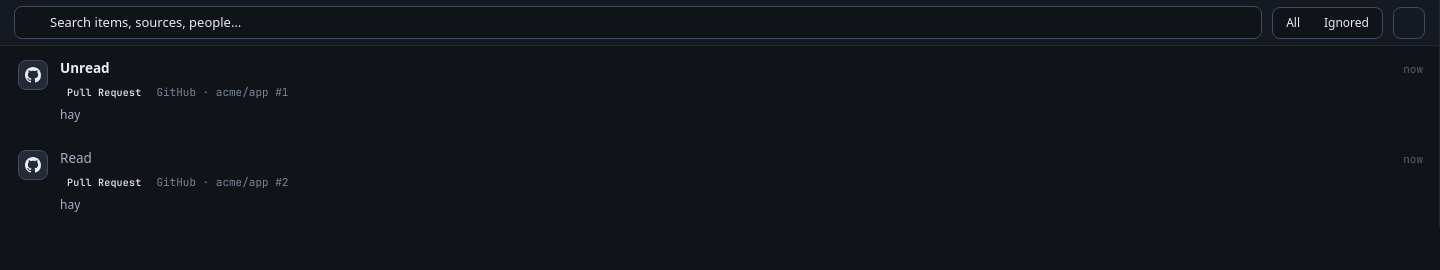
FeedList › omits mark all as read in trash, which carries no unread semantics
The width and height of the screenshot is (1440, 270).
Click the button with test id "view-menu-toggle".
click(1409, 22)  # box x1=1393 y1=6 x2=1425 y2=38
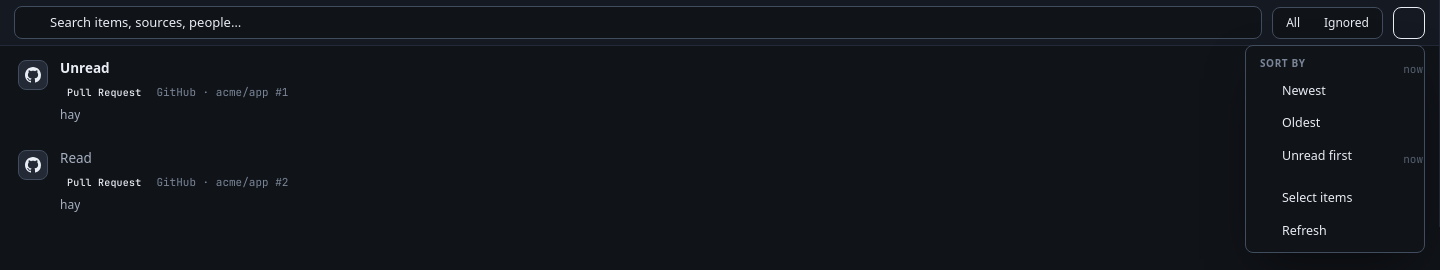
Now the menu item with test id "view-menu-refresh" is shown, box x1=1251 y1=214 x2=1419 y2=247
